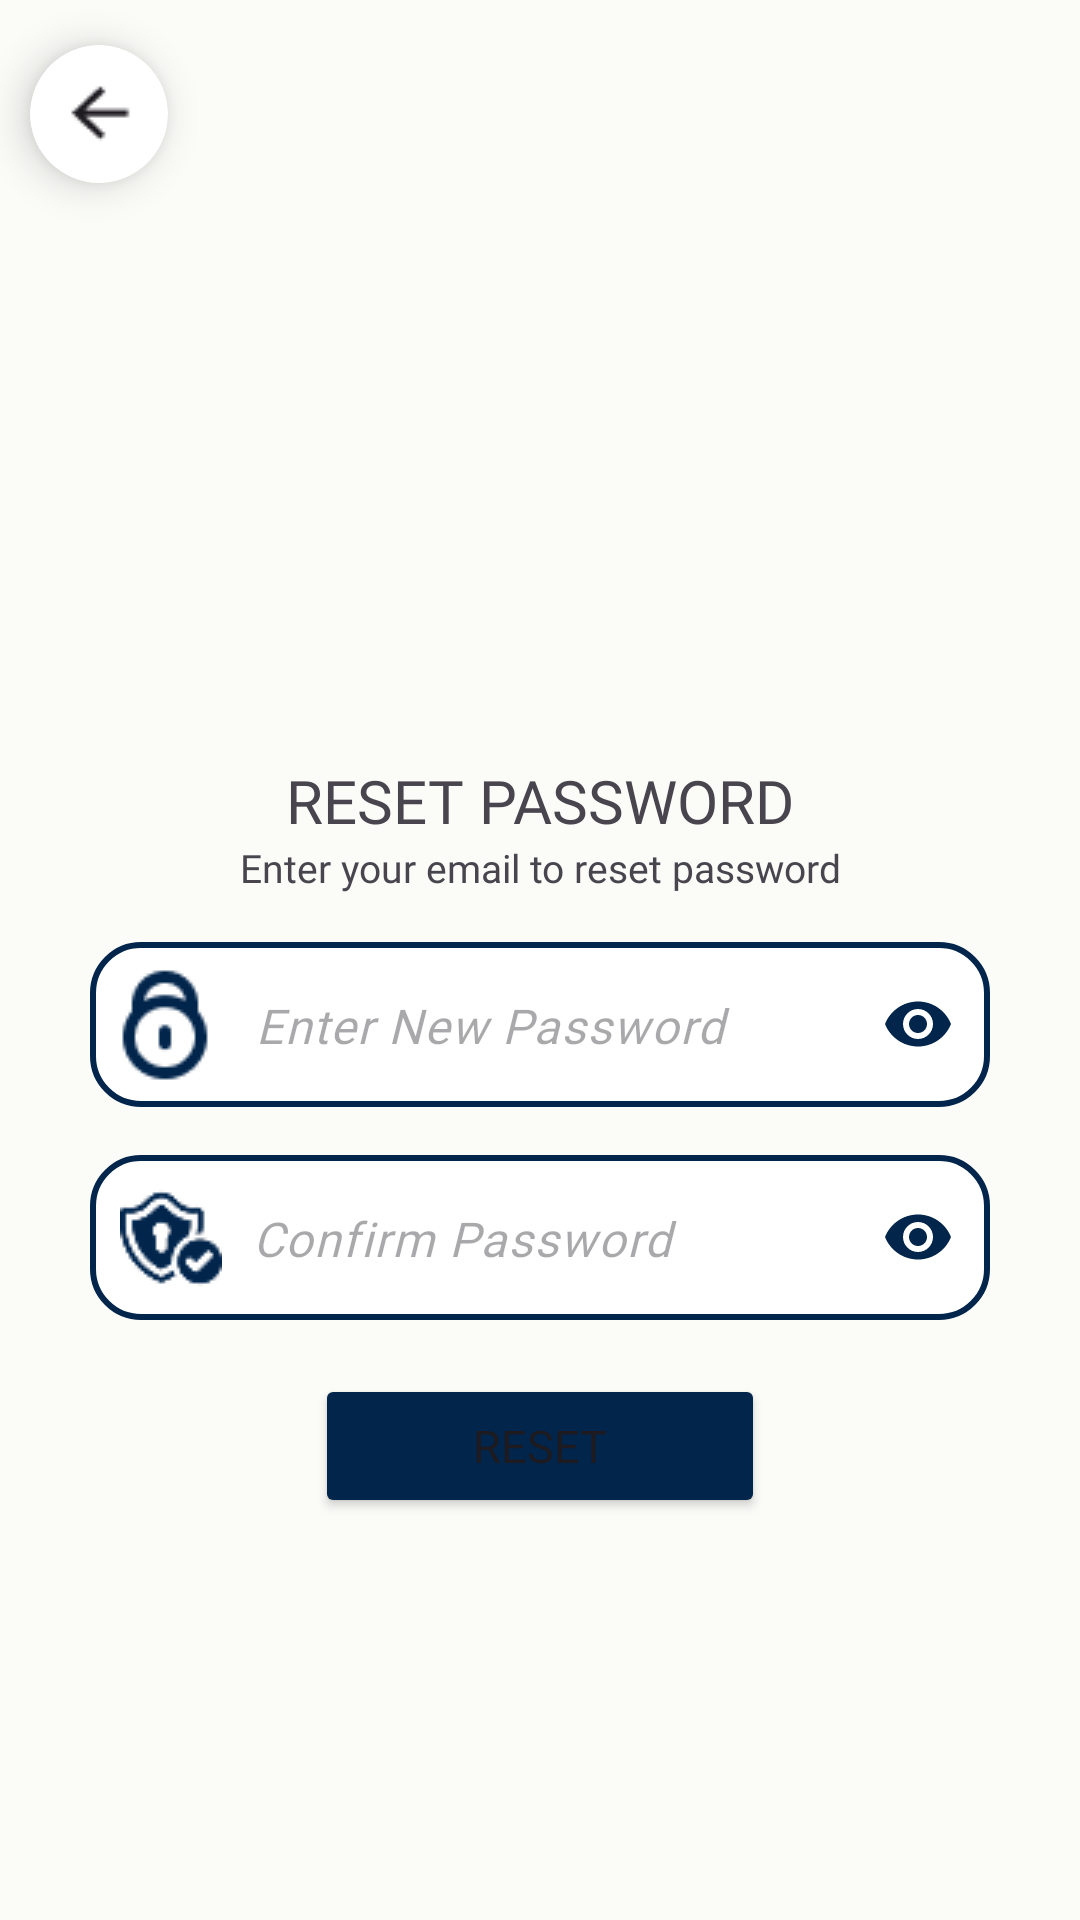

Where to tap for icons on this 1080*1920 app screen, as [x,y]:
back product screen: [99,114]
